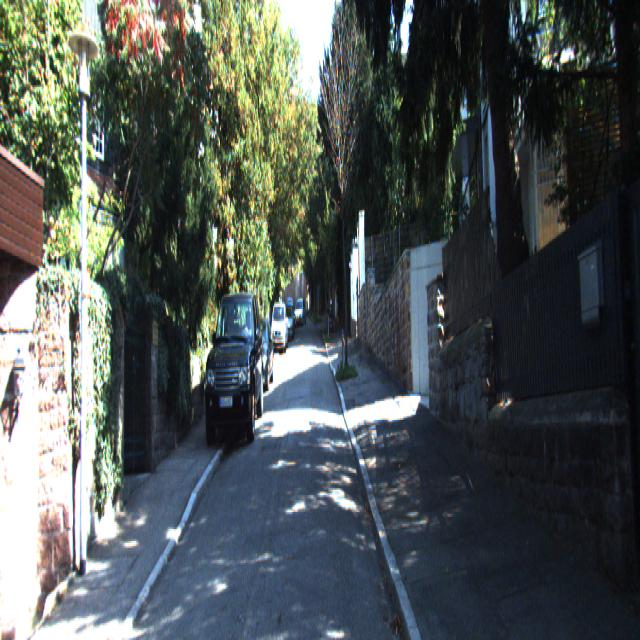Car: (200, 282, 265, 455), (240, 314, 275, 396), (270, 302, 288, 357)
